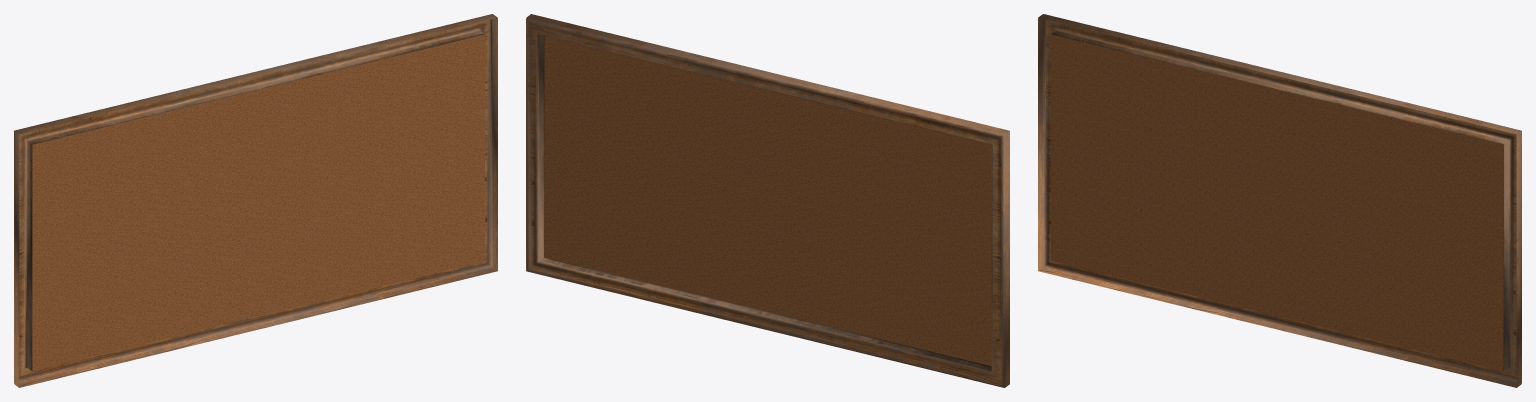
File: CorkBoard.glb
3 views of the same model, side by side, from view 1: azimuth 30°, elevation 25°; view 2: azimuth 150°, elevation 25°; view 3: azimuth 330°, elevation 25° (orthographic).
Visible parts, largest first — view 1: Plane; view 2: Plane; view 3: Plane.
Boxes of the visible parts, <box> form: Plane: <box>14,14,497,387</box>; Plane: <box>526,14,1009,387</box>; Plane: <box>1038,14,1521,387</box>.
Size of the model in its own units: 395 by 200 by 8.68.
Materials: 1 (1 with a texture image).
